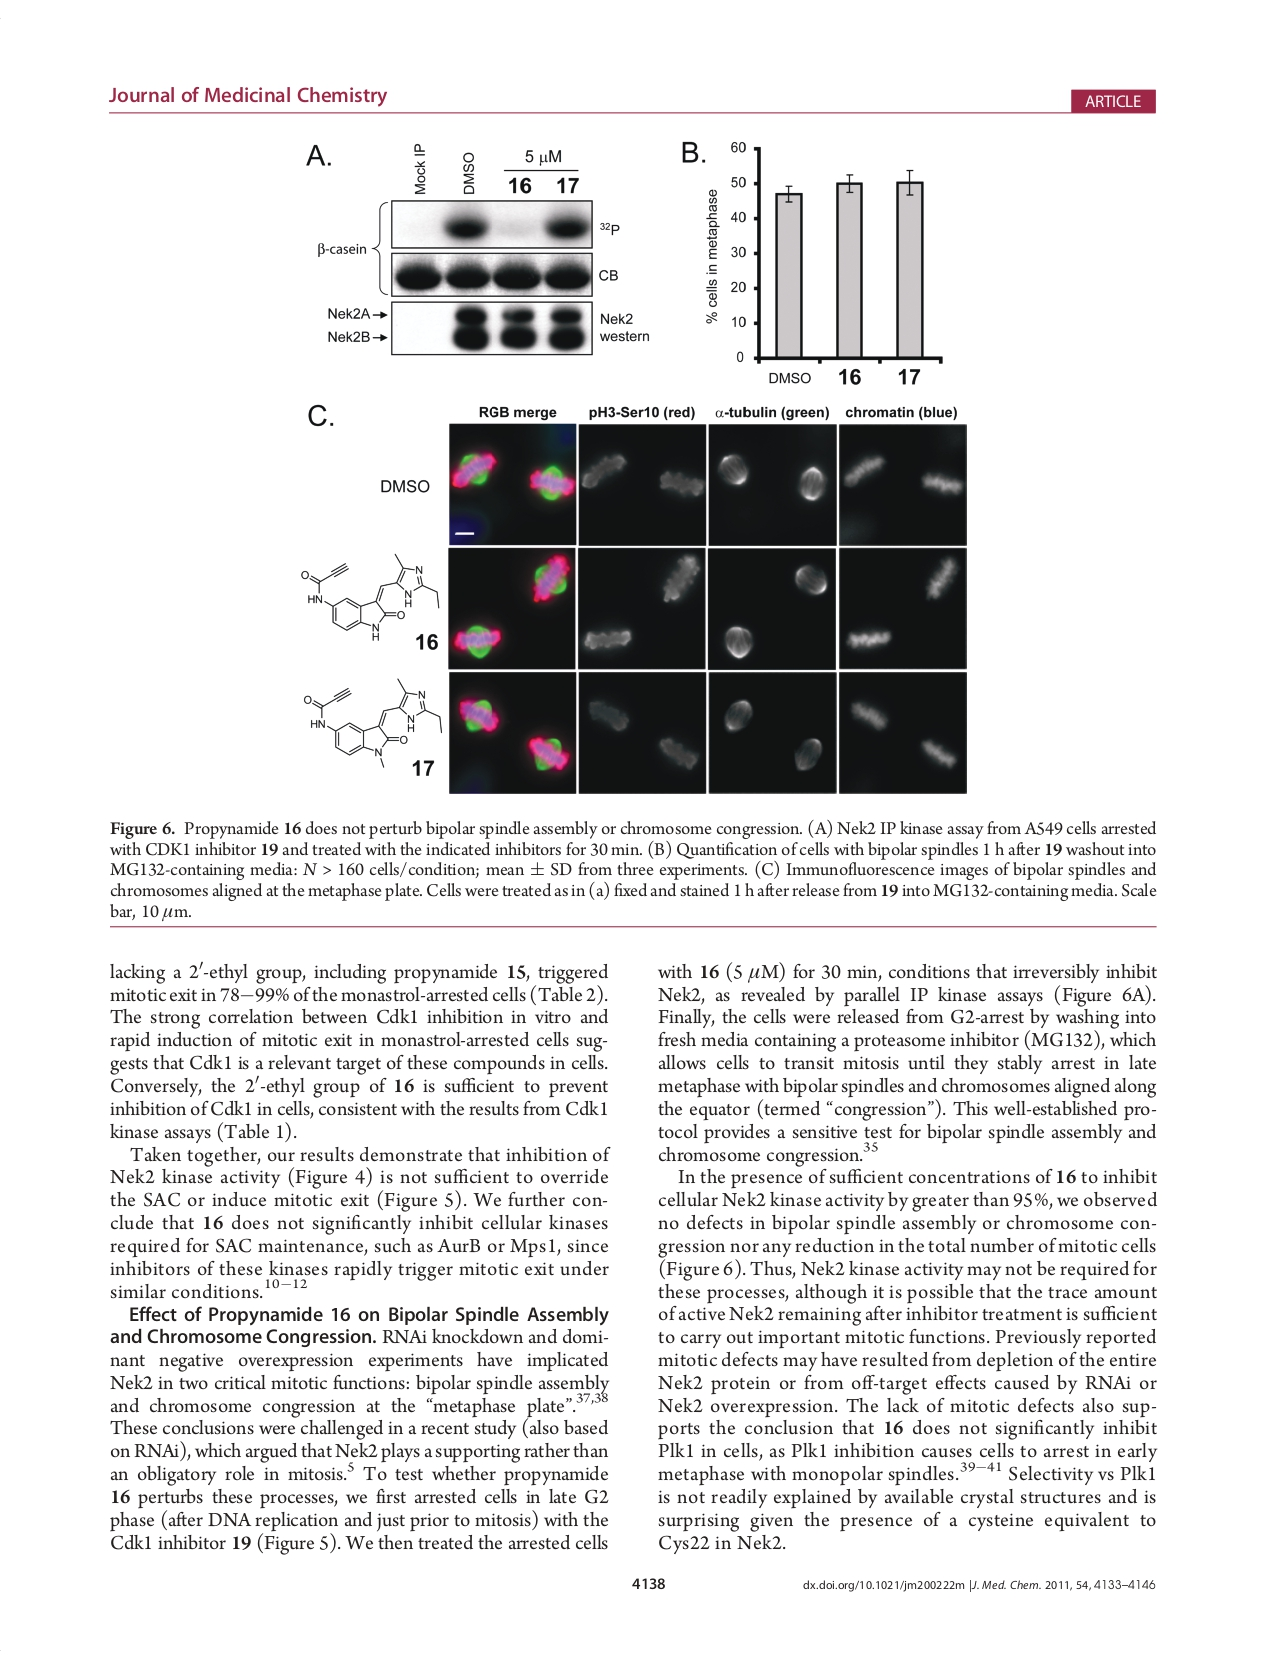exist_molecular: (297, 547, 442, 642), (301, 674, 445, 769)
